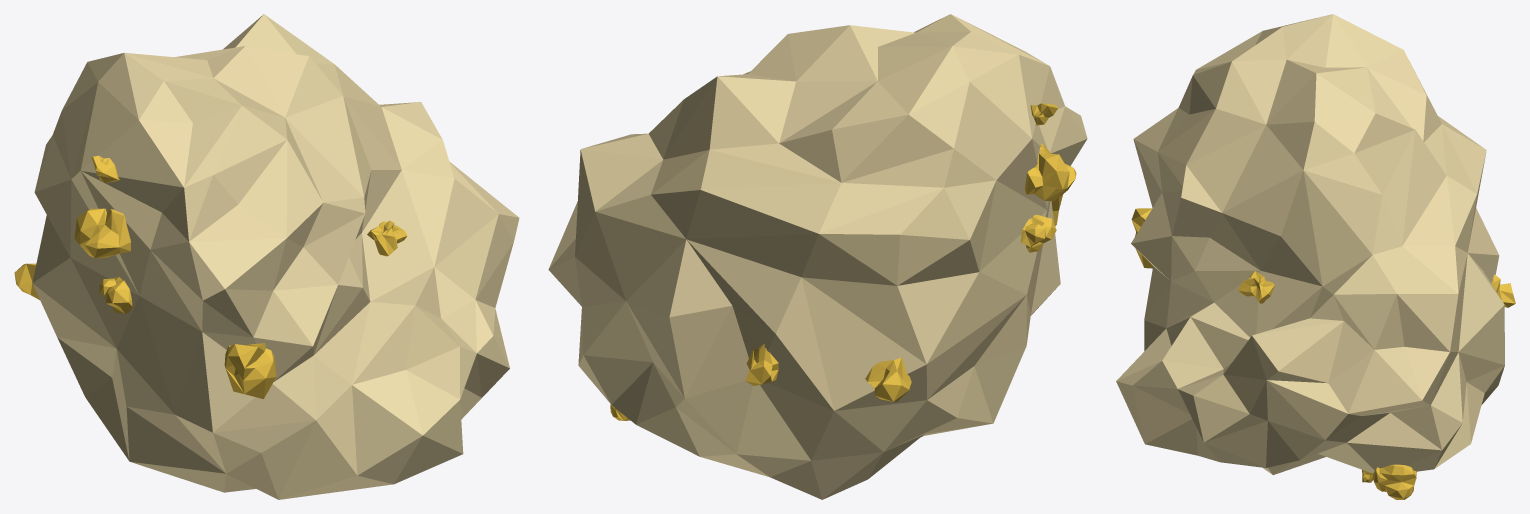
Rendered from MetalOre (33).fbx.
3 renders of one model, left to right at view 1: azimuth 30°, elevation 25°; view 2: azimuth 150°, elevation 25°; view 3: azimuth 270°, elevation 25°, orthographic. The views are drawn at different scales.
Visible parts, largest first — view 1: Asteroid388; view 2: Asteroid388; view 3: Asteroid388.
Boxes of the visible parts, left/top/right/bottom form: Asteroid388: left=14, top=14, right=519, bottom=499; Asteroid388: left=548, top=14, right=1087, bottom=499; Asteroid388: left=1116, top=14, right=1515, bottom=499.
Size of the model in its own units: 576 by 540 by 504.
